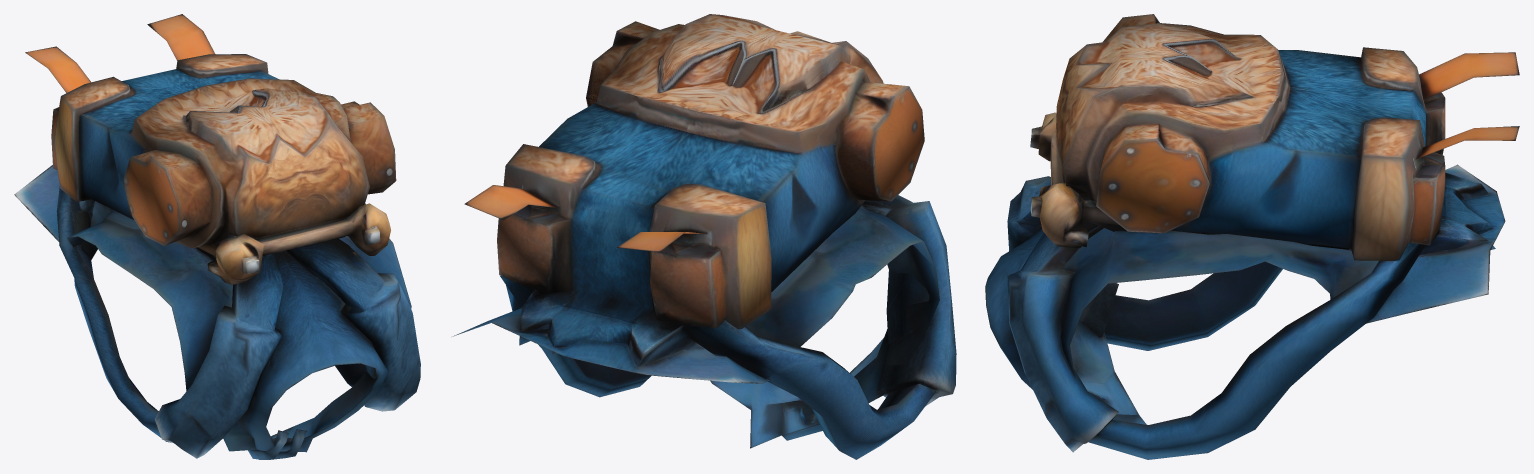
File: Meshy_AI_IronBackpack_for_Mesh_0704010552_texture.fbx
The picture shows the model from 3 angles, left to right: view 1: azimuth 30°, elevation 25°; view 2: azimuth 150°, elevation 25°; view 3: azimuth 270°, elevation 25°; orthographic projection. The views are drawn at different scales.
Parts seen in each view (by area): view 1: Mesh_0; view 2: Mesh_0; view 3: Mesh_0.
Part boxes in pixels (x1,y1,x2,y2): Mesh_0: (14,14,420,459); Mesh_0: (452,14,956,459); Mesh_0: (985,14,1519,459).
Size of the model in its own units: 128 by 157 by 200.
1 material, 1 textured.
